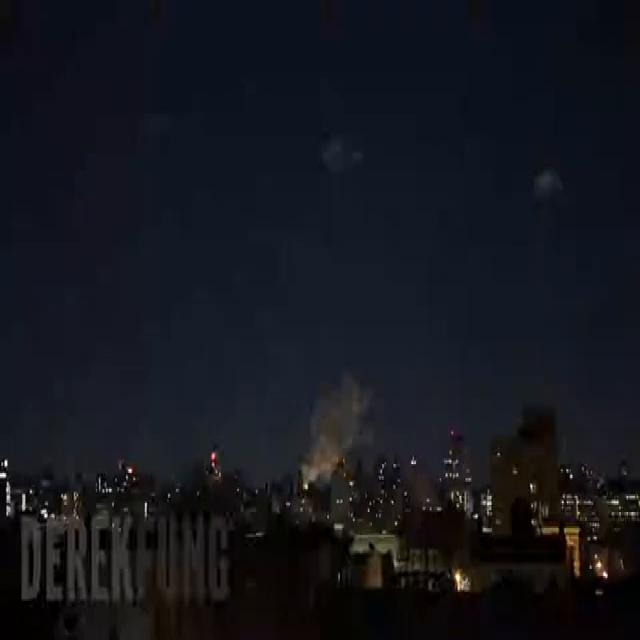smoke: (303, 372, 373, 478)
